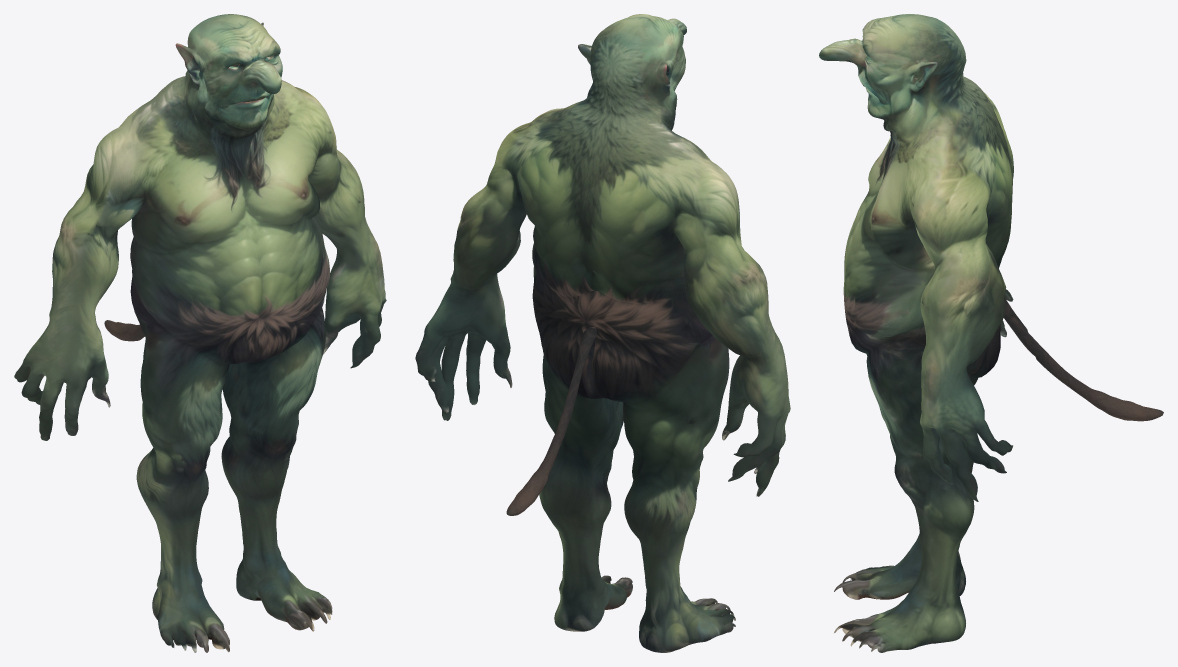
The model's file is green-ogre-warrior.glb.
3 views of the same model, side by side, from view 1: azimuth 30°, elevation 25°; view 2: azimuth 150°, elevation 25°; view 3: azimuth 270°, elevation 25° (orthographic).
Visible parts, largest first — view 1: PM3D_Sphere3D3_2_PM3D_Sphere3D3_2_0; view 2: PM3D_Sphere3D3_2_PM3D_Sphere3D3_2_0; view 3: PM3D_Sphere3D3_2_PM3D_Sphere3D3_2_0.
Part boxes in pixels (x1,y1,x2,y2): PM3D_Sphere3D3_2_PM3D_Sphere3D3_2_0: [14, 14, 386, 652]; PM3D_Sphere3D3_2_PM3D_Sphere3D3_2_0: [415, 14, 790, 652]; PM3D_Sphere3D3_2_PM3D_Sphere3D3_2_0: [819, 14, 1163, 652].
Bounding box in the file's own units: 0.0331 × 0.0536 × 0.028.
1 material, 1 textured.
